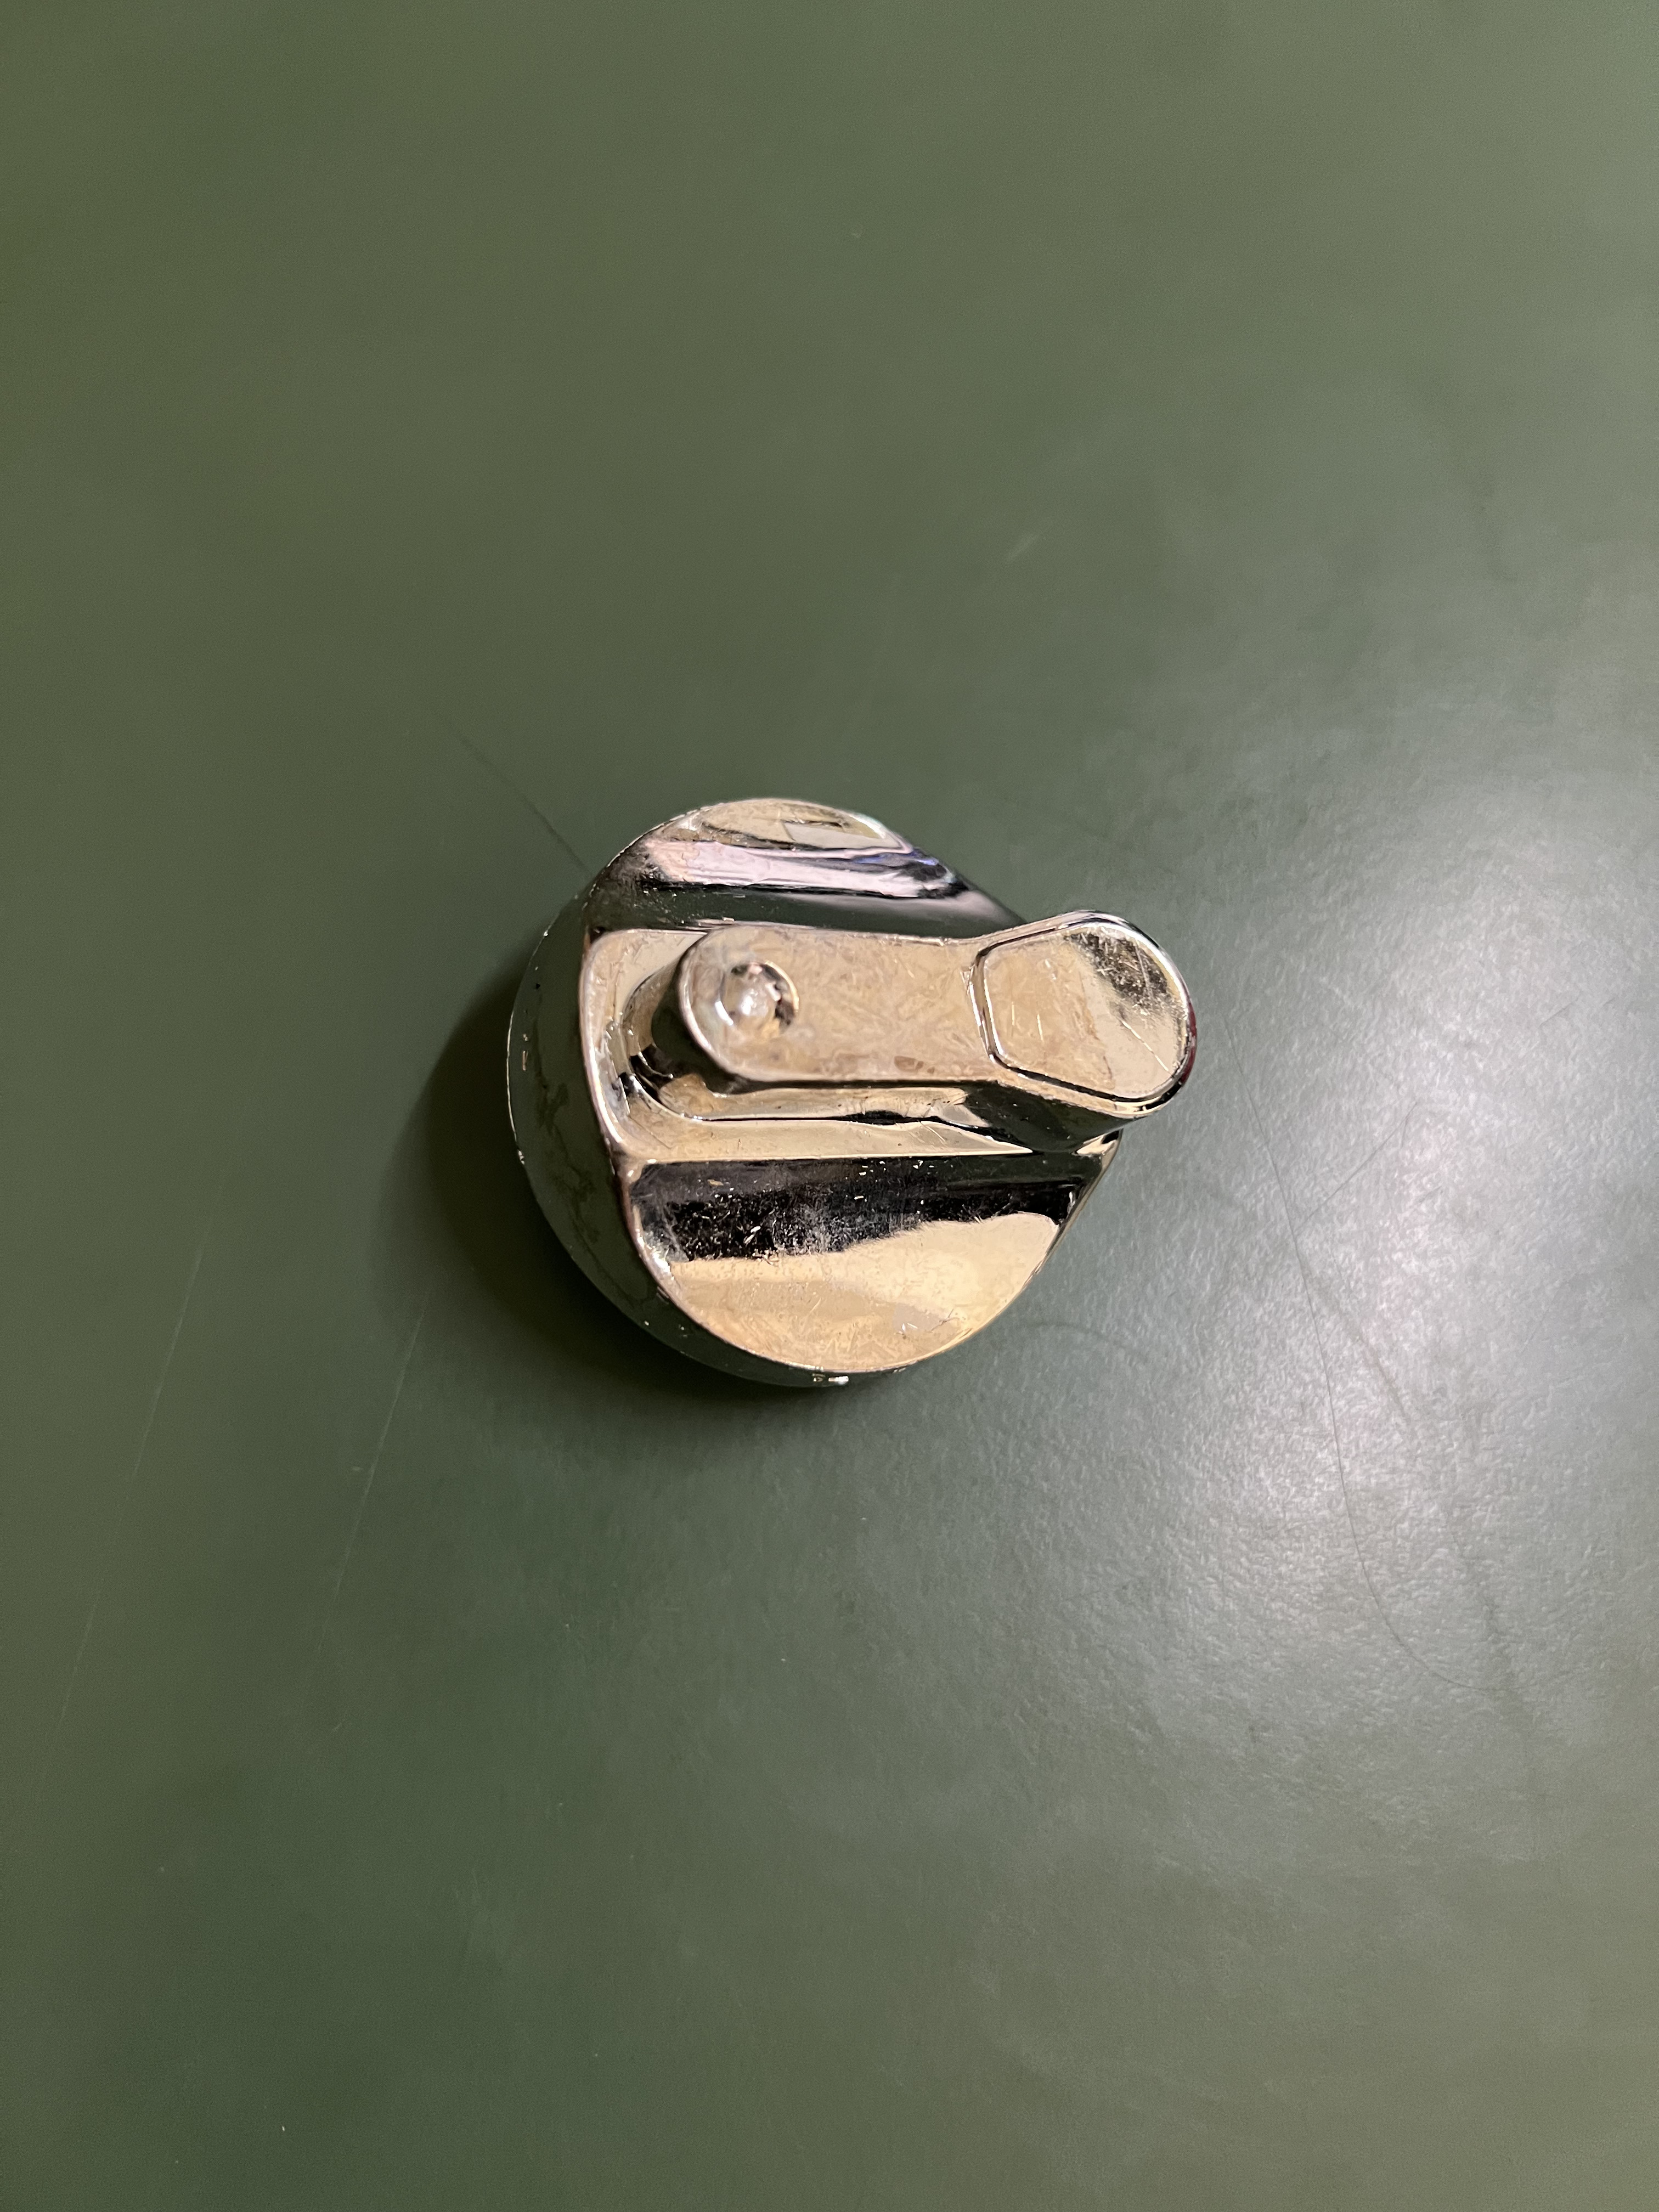regulator: (476, 740, 1256, 1451)
